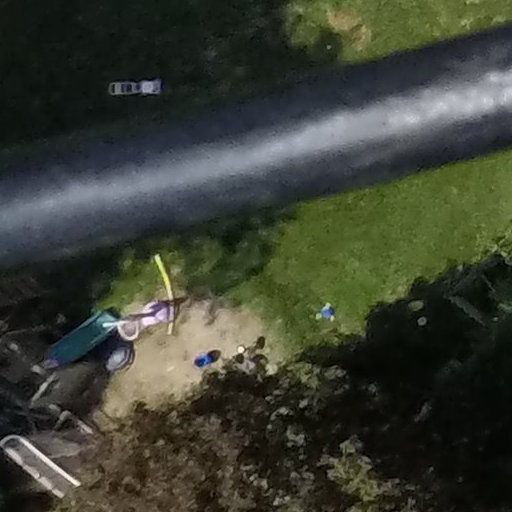container: (104, 314, 149, 344), (194, 349, 212, 370)
toy: (35, 307, 127, 371)
